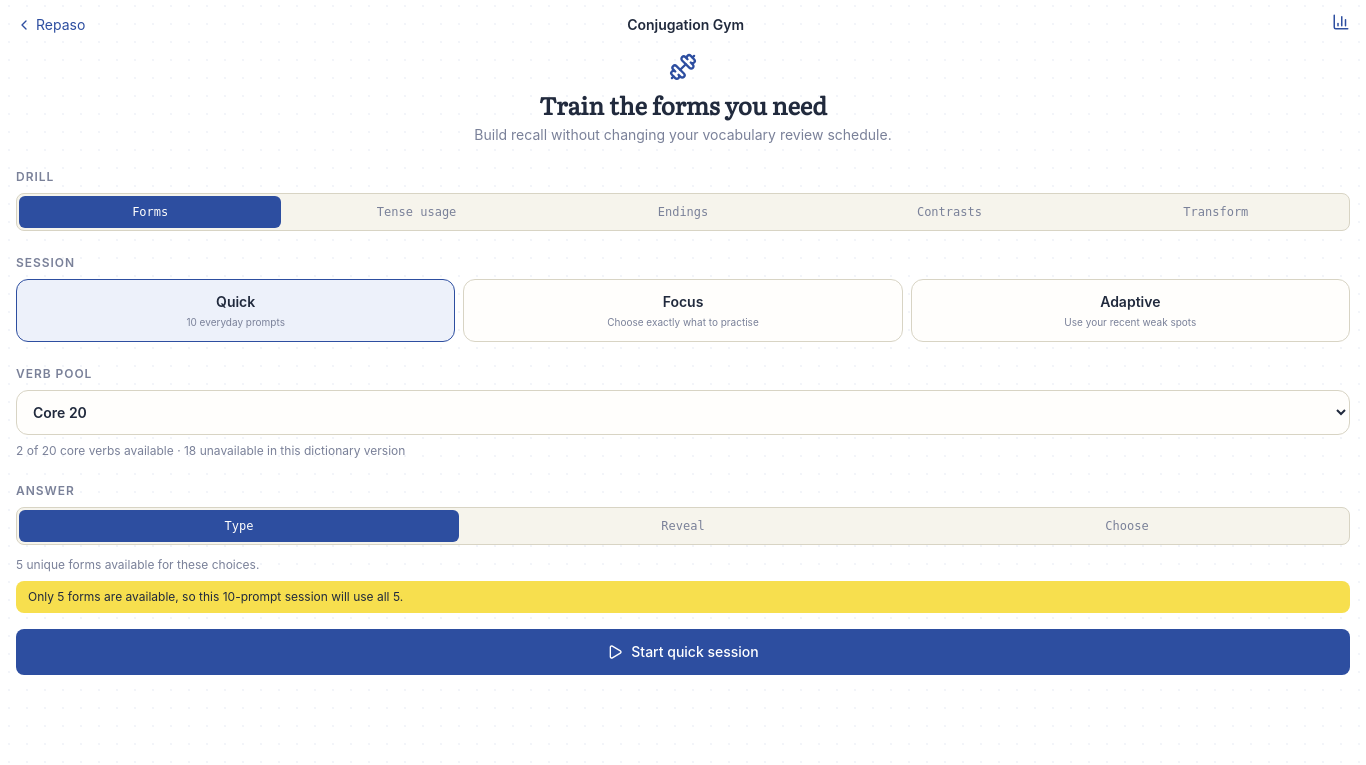
Conjugation Gym setup › defaults to Type and can run a Quick session from saved verbs
The width and height of the screenshot is (1366, 765).
Select "Saved" in the dropdown named "Verb pool" at (683, 412), box [16,390,1350,434]
(page scrolled)
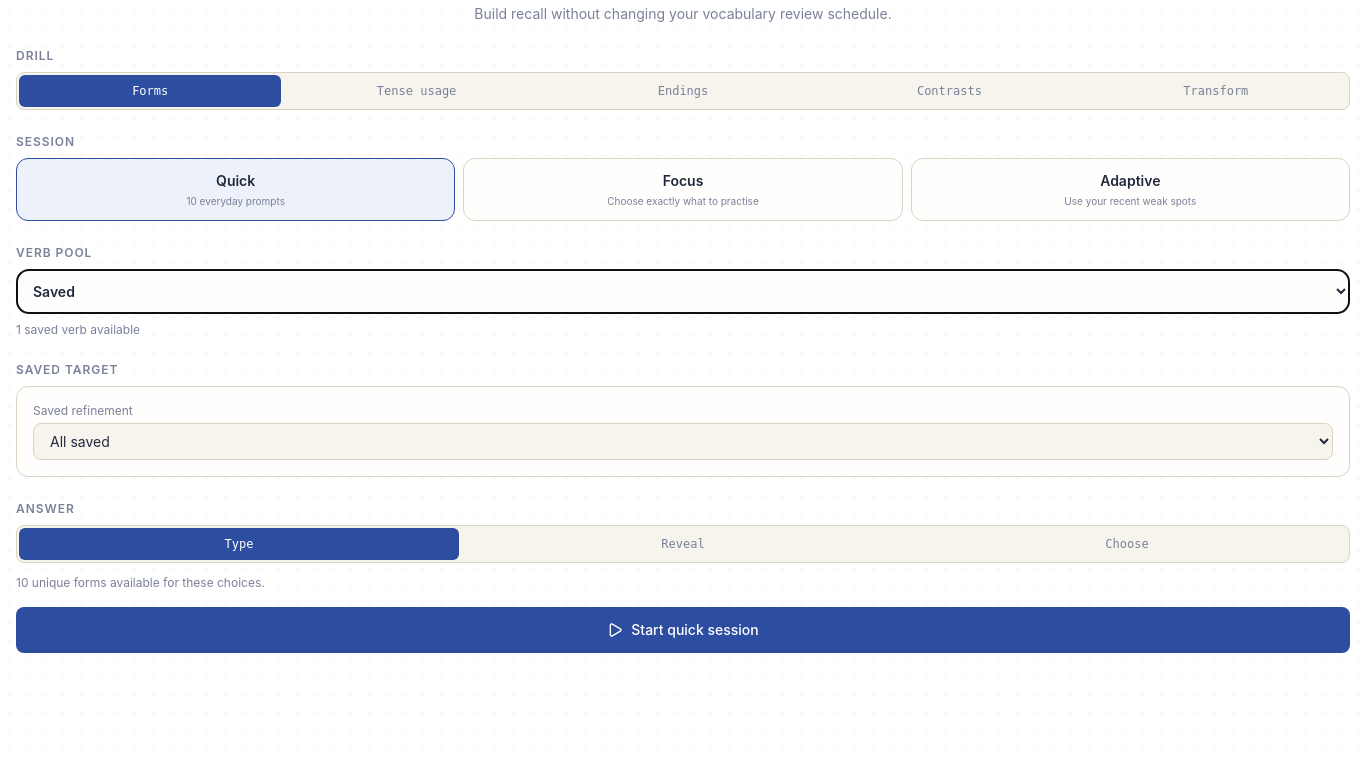
Click the button "Start quick session" at (683, 630), box [16,606,1350,652]
(page scrolled)
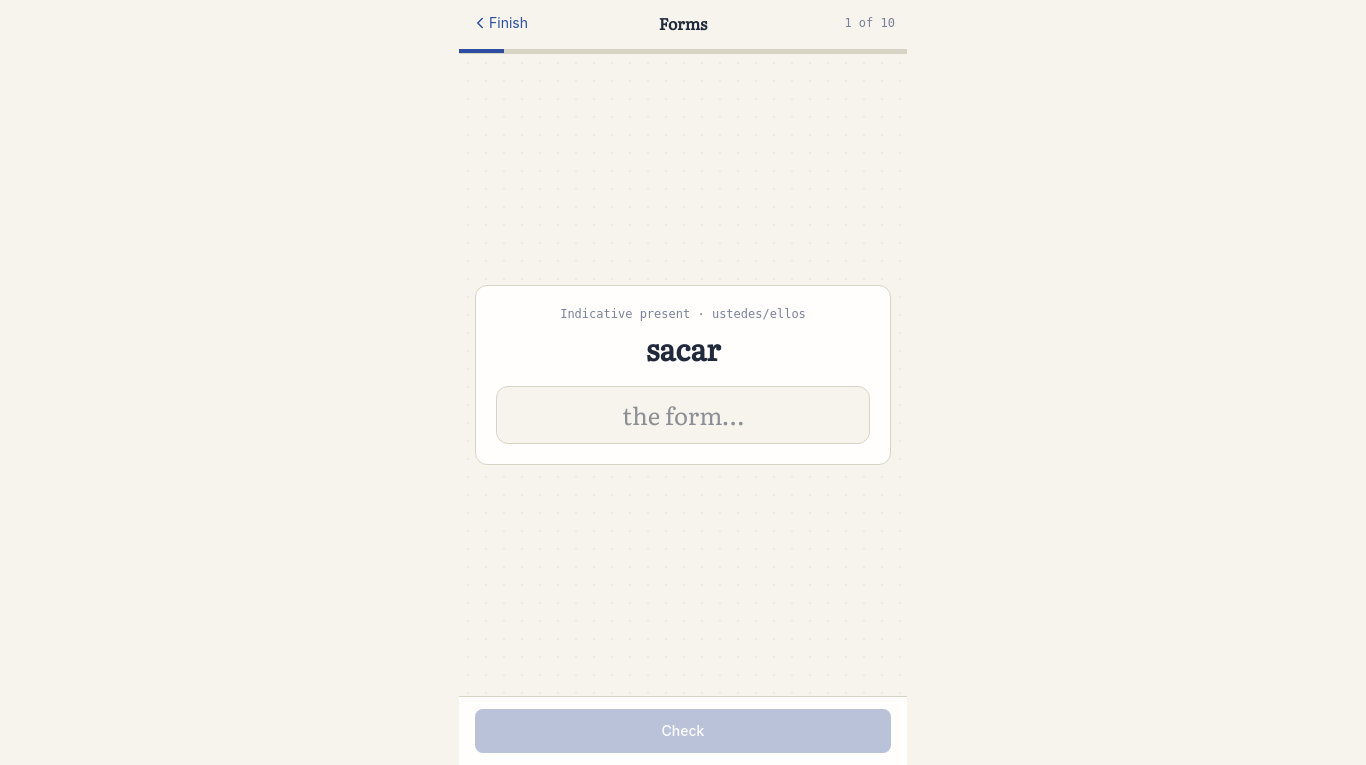
Now the field named "Type the form" is shown, box [496,386,870,444]
Now the text "Indicative present · ustedes/ellos" is shown, box [560,307,806,321]
